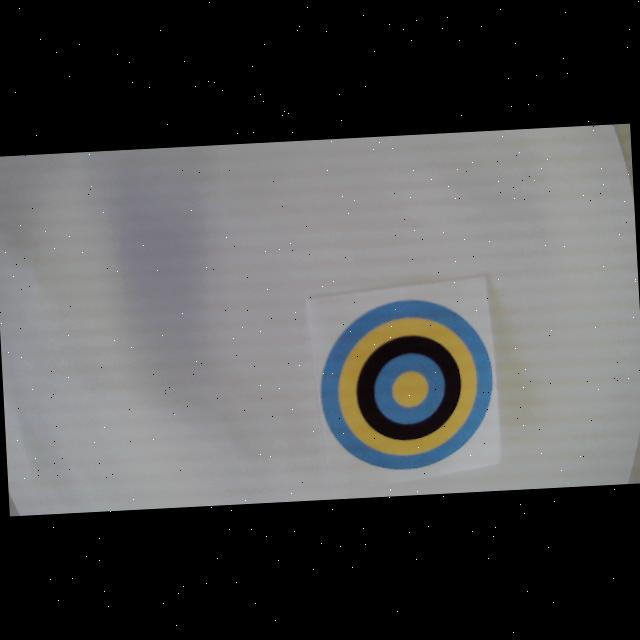COGNITIVE: (316, 295, 496, 474)
